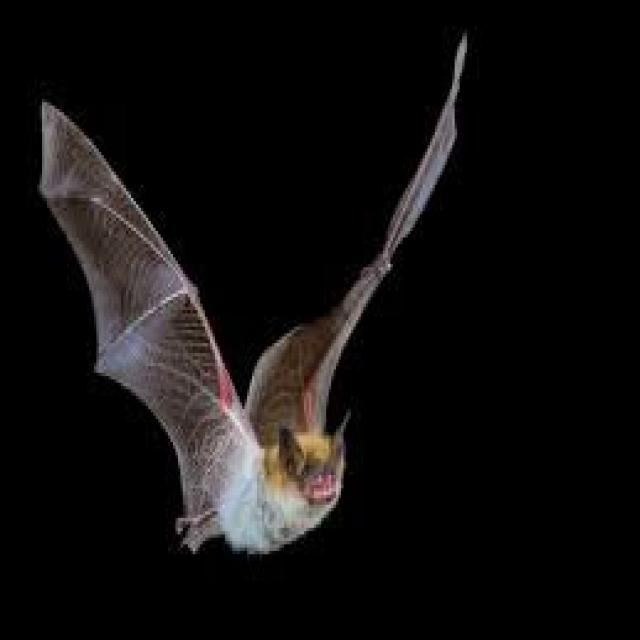bat: (42, 43, 465, 551)
